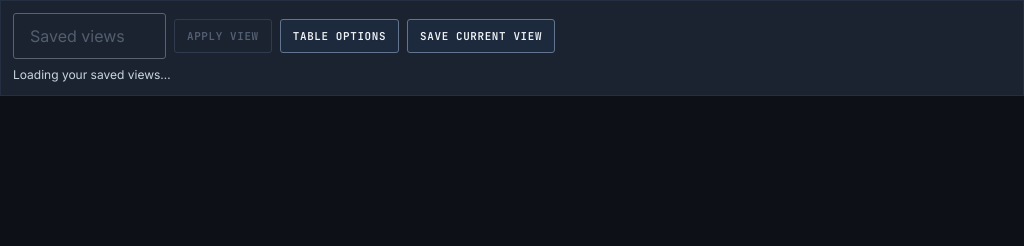
Test: explains loading gates while table options remain usable
Click the button "Table options". click: (339, 36)
box: [280,19,399,53]
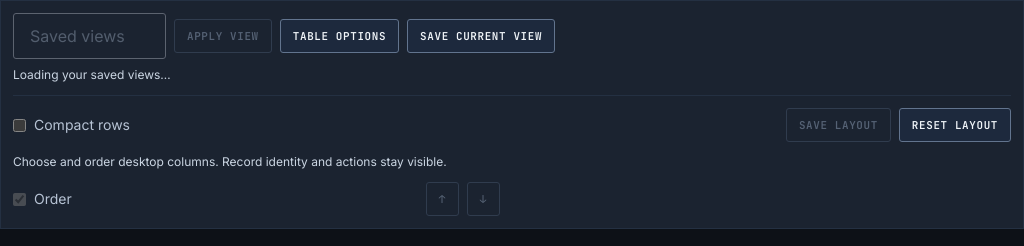
Expected: the button "Save layout" is disabled, [786,108,891,142]
Expected: the button "Reset layout" is enabled, [899,108,1011,142]
